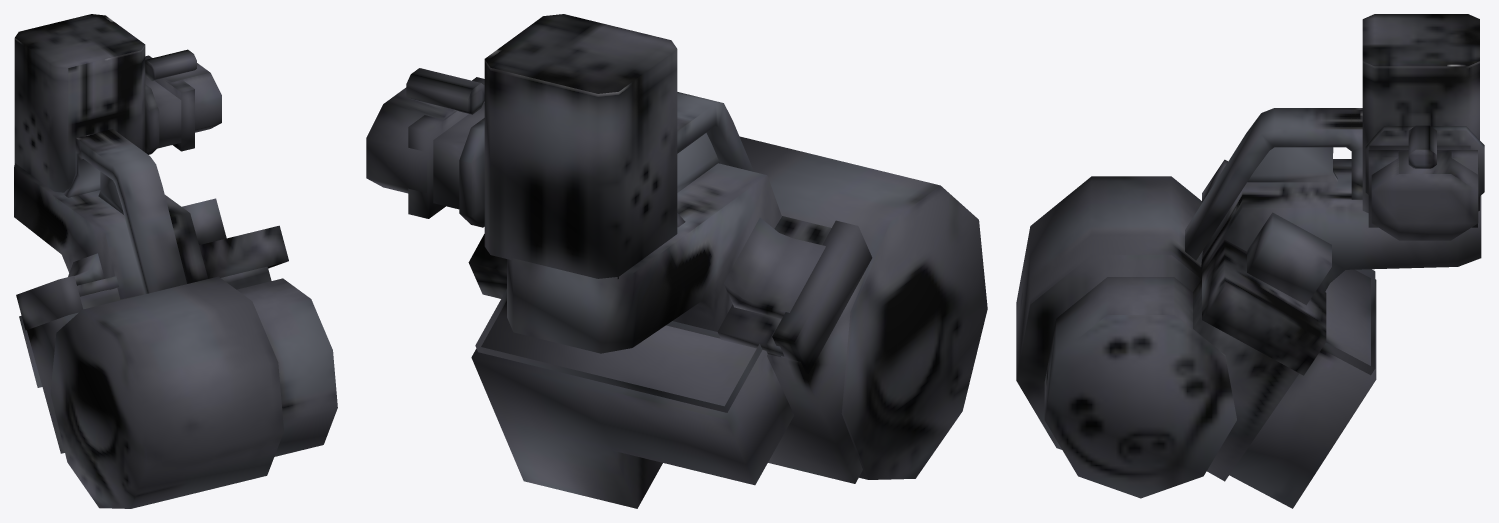
The model's file is r_clav.dae.
3 renders of one model, left to right at view 1: azimuth 30°, elevation 25°; view 2: azimuth 150°, elevation 25°; view 3: azimuth 270°, elevation 25°, orthographic. The views are drawn at different scales.
Visible parts, largest first — view 1: r_clav; view 2: r_clav; view 3: r_clav.
Boxes of the visible parts, bbox=[...] form: r_clav: bbox=[14, 14, 337, 508]; r_clav: bbox=[366, 14, 987, 508]; r_clav: bbox=[1016, 14, 1484, 508].
Bounding box in the file's own units: 0.1202 × 0.1828 × 0.1793.
